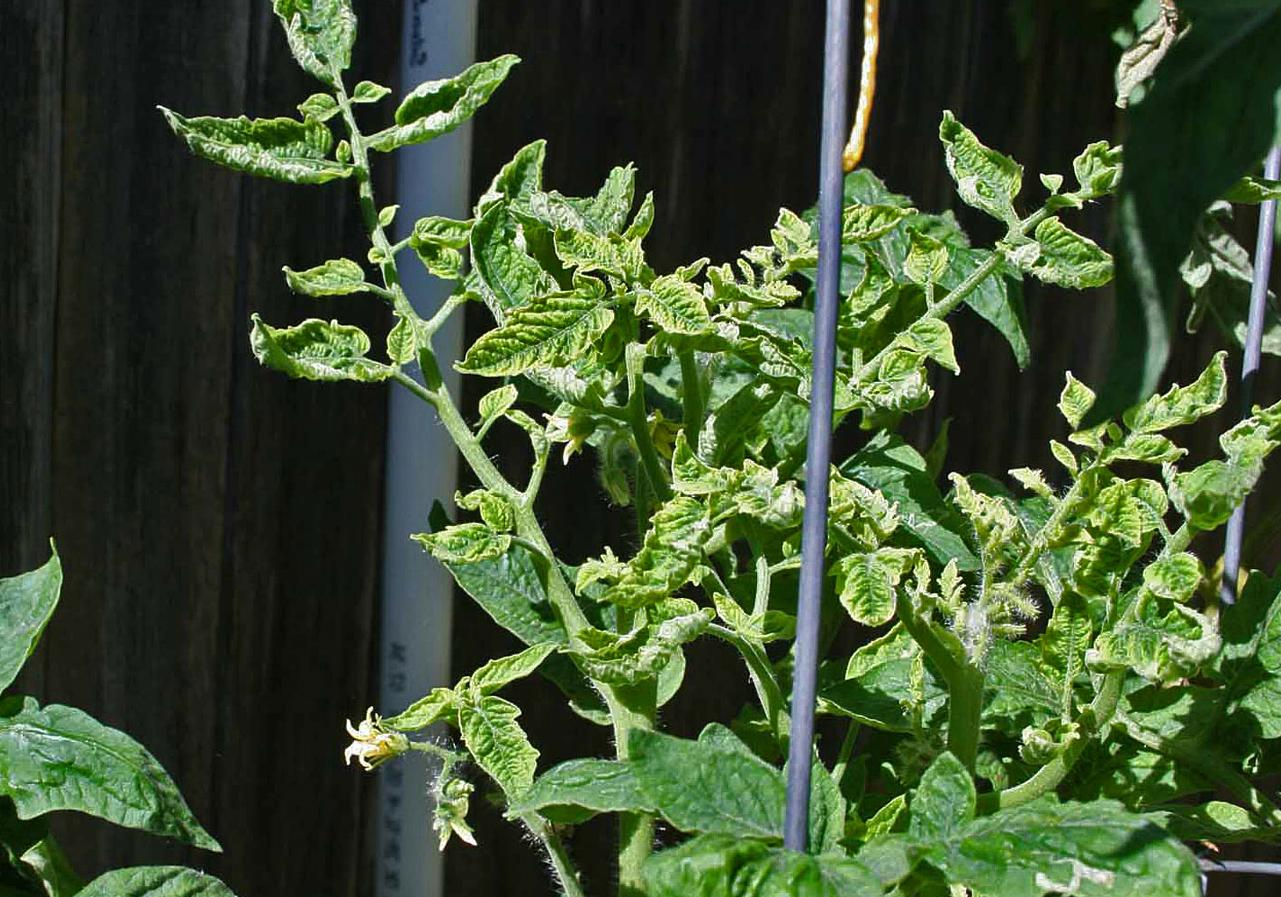Tomato leaf yellow virus: (897, 763, 1228, 897), (609, 715, 843, 859), (603, 436, 760, 607), (131, 94, 364, 204), (212, 306, 410, 405), (458, 281, 633, 390), (429, 674, 560, 806), (1116, 330, 1234, 450), (926, 104, 1024, 224), (1079, 600, 1215, 683), (387, 493, 519, 571), (621, 262, 730, 353), (259, 0, 373, 81), (537, 210, 655, 288), (829, 541, 918, 638), (1070, 468, 1173, 546), (1021, 219, 1119, 299), (264, 246, 377, 306), (1129, 551, 1206, 612)
